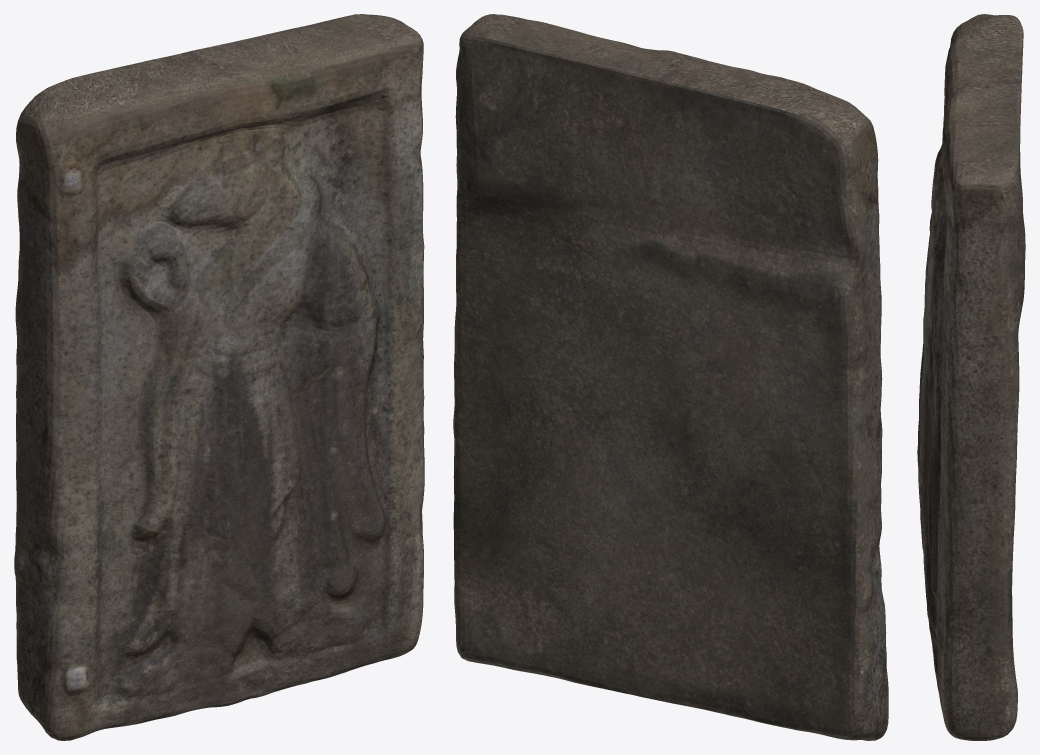
3 renders of one model, left to right at view 1: azimuth 30°, elevation 25°; view 2: azimuth 150°, elevation 25°; view 3: azimuth 270°, elevation 25°, orthographic. The views are drawn at different scales.
Visible parts, largest first — view 1: Object_2, Object_3; view 2: Object_2, Object_3; view 3: Object_2, Object_3.
Boxes of the visible parts, left/top/right/bottom form: Object_2: left=15, top=14, right=424, bottom=740; Object_3: left=14, top=14, right=424, bottom=723; Object_2: left=454, top=26, right=888, bottom=740; Object_3: left=453, top=14, right=888, bottom=738; Object_2: left=917, top=14, right=1025, bottom=740; Object_3: left=919, top=15, right=1023, bottom=734.
Bounding box in the file's own units: 0.6326 × 0.9562 × 0.1624.
Materials: 1 (1 with a texture image).
